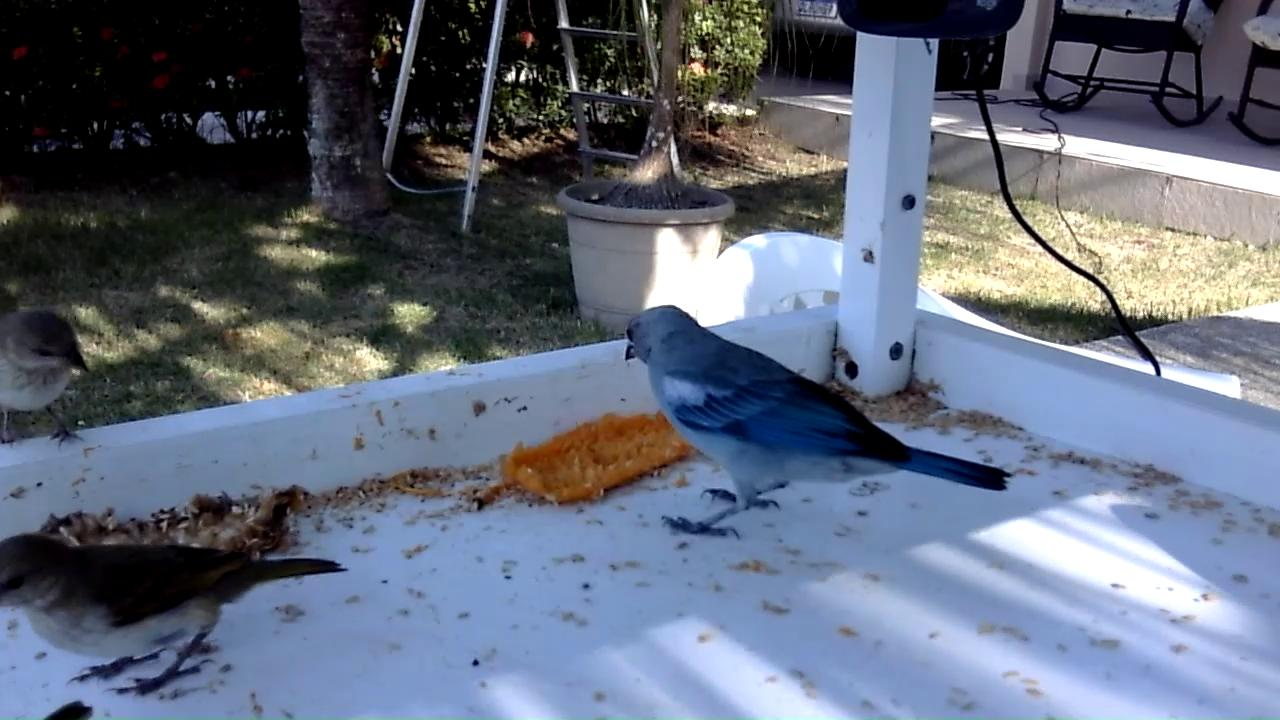canario_do_amazonas: (1, 532, 370, 702), (1, 302, 99, 454)
sanhaco_da_amazonia: (623, 304, 1016, 544)
